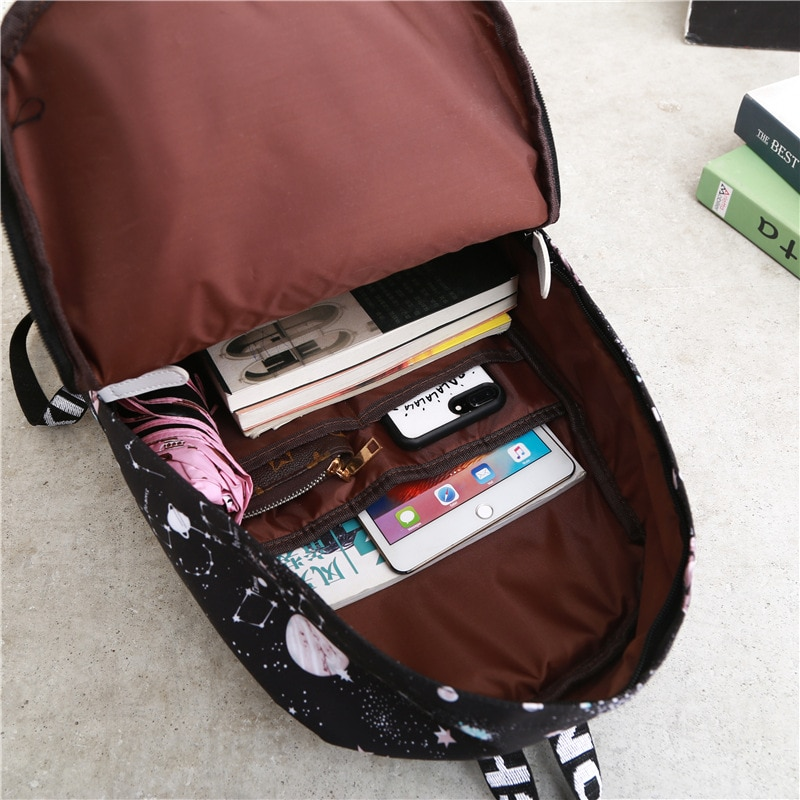Computers&Acc|Computers & Tablets: (357, 421, 576, 573)
Men's Backpacks: (1, 1, 699, 800)
Mobiles&Acc|Mobile Phone: (390, 364, 503, 446)
